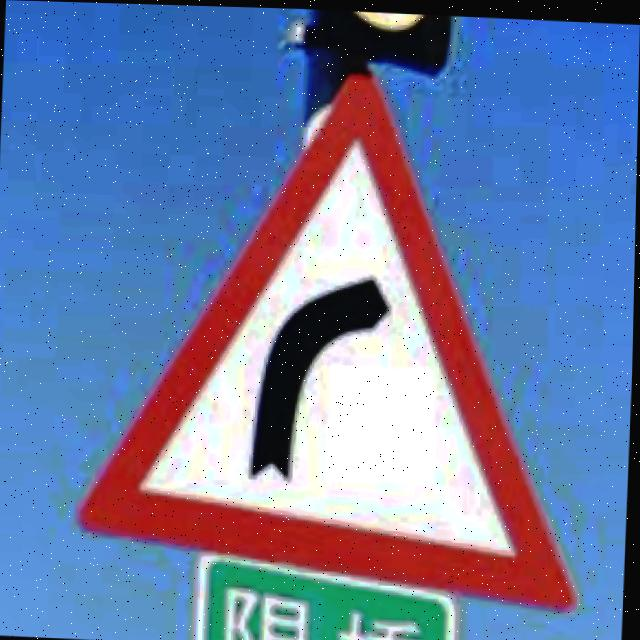rightbend: (79, 66, 582, 611)
